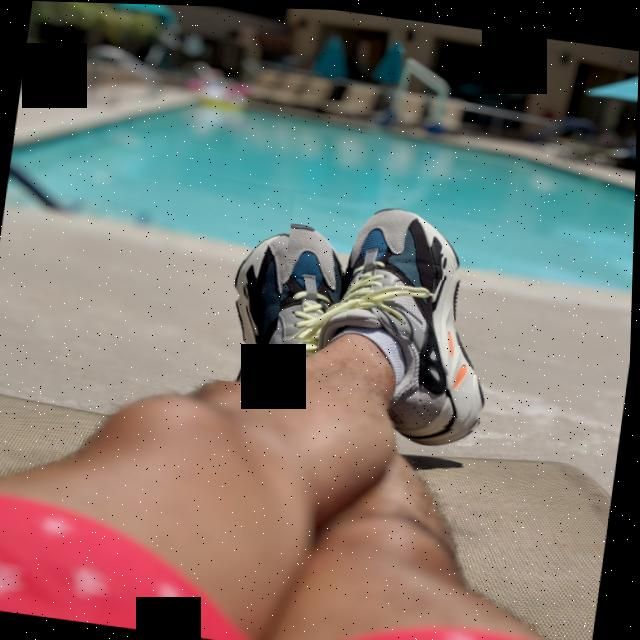shoe: (84, 155, 336, 390), (268, 190, 509, 430)
